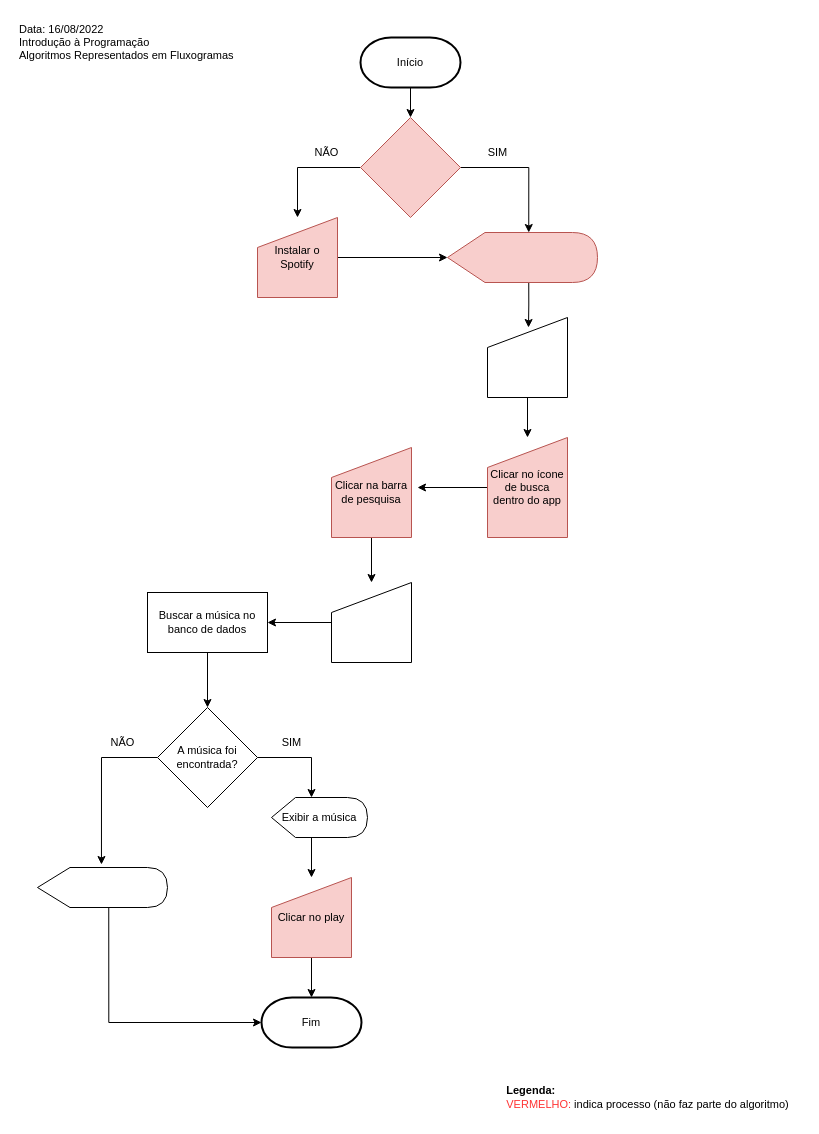
This 819x1134 diagram has some shape labels left out. The shapes that lost their labels are listed below. From the top down, each one's centre as x and y in pixels, then its label:
point 410,167: O Spotify está instalado no smartphone?
point 522,257: Exibe o menu de apps do smartphone
point 527,357: Abrir o Spotify
point 371,622: Digitar o nome da música
point 102,887: Exibir resultados relacionados
